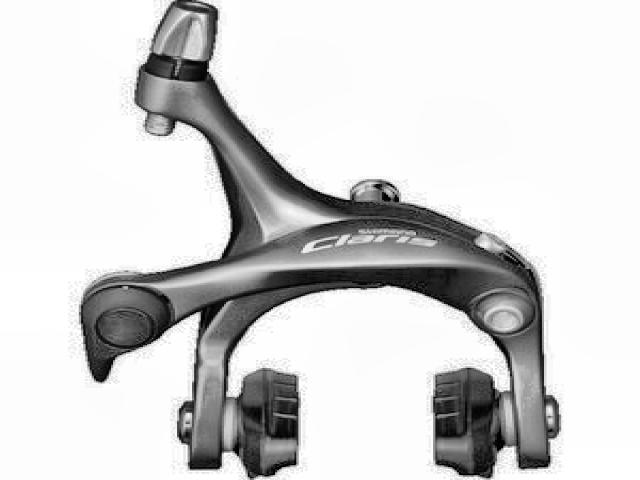rim_brake: (76, 0, 561, 478)
